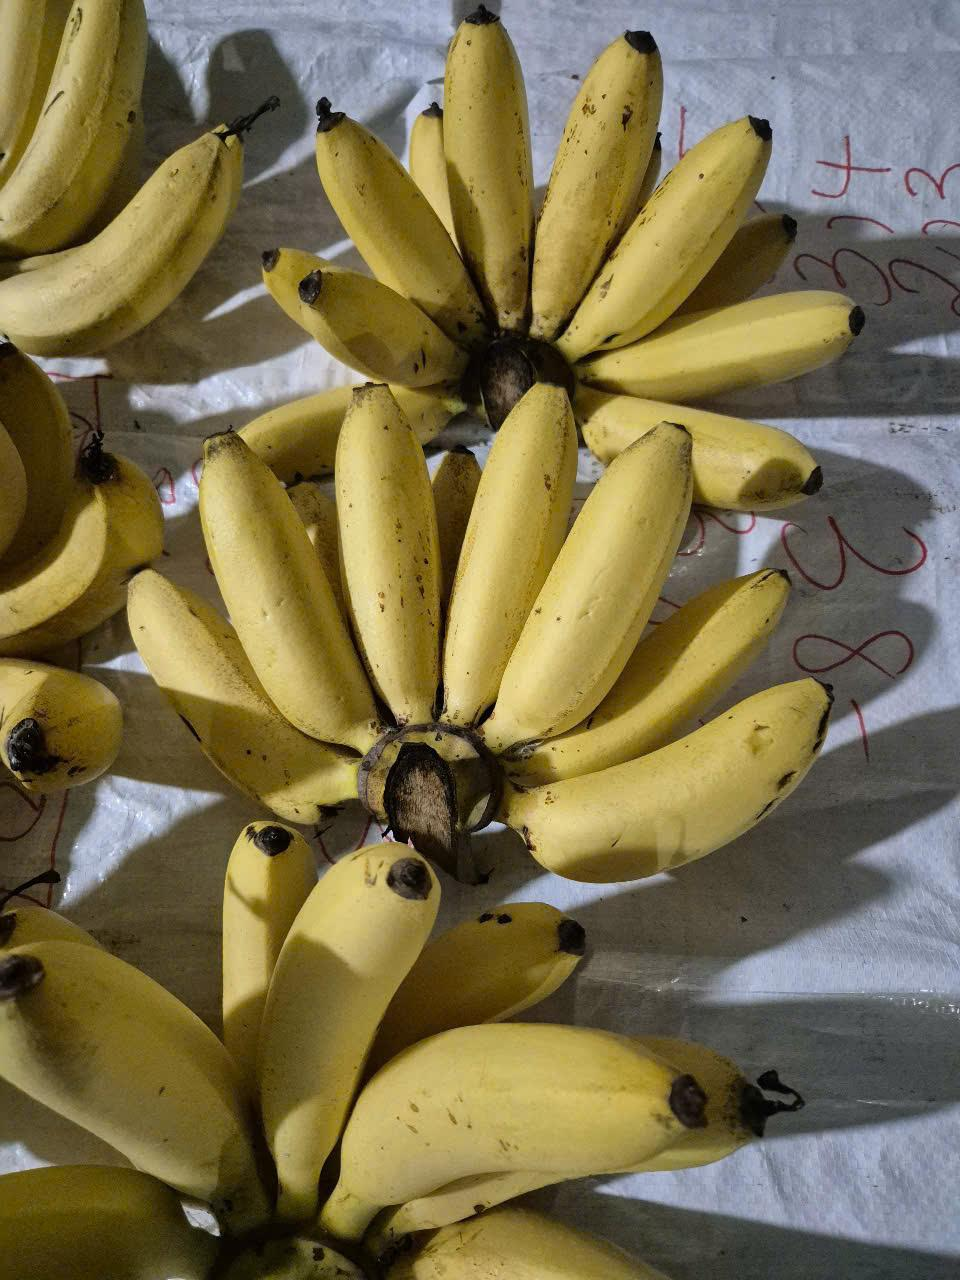banana: (140, 387, 842, 887), (307, 13, 843, 403), (319, 843, 786, 1280), (0, 850, 305, 1280), (0, 10, 290, 365)
